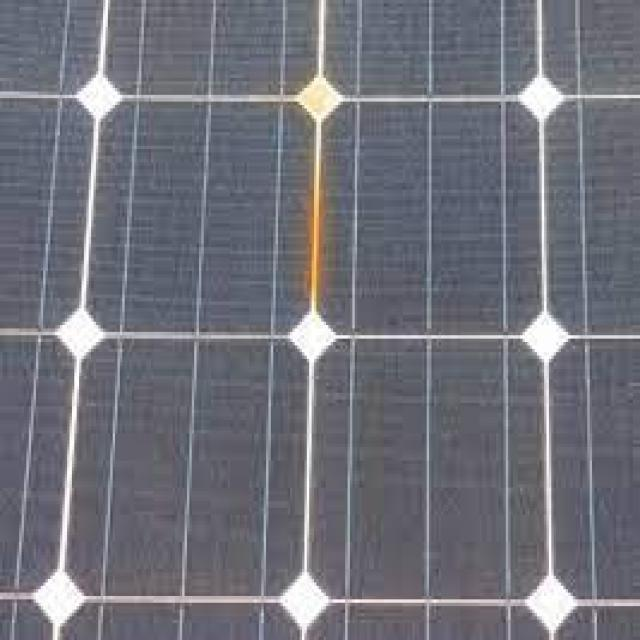faulty: (291, 120, 359, 337)
